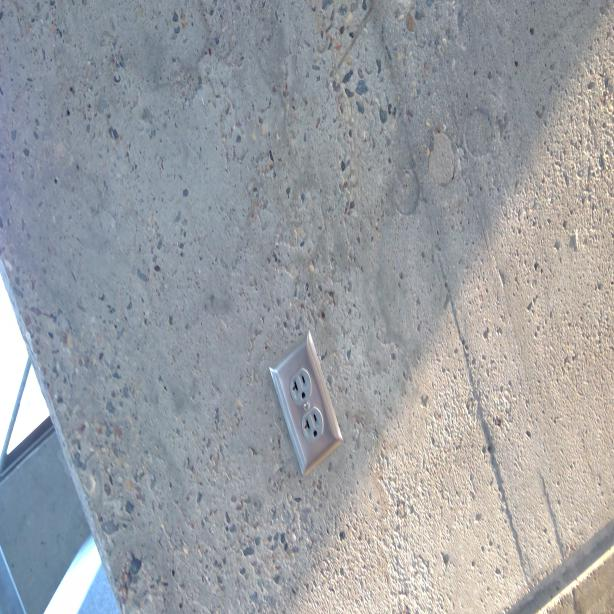typeb: (290, 369, 312, 402), (302, 408, 323, 438)
